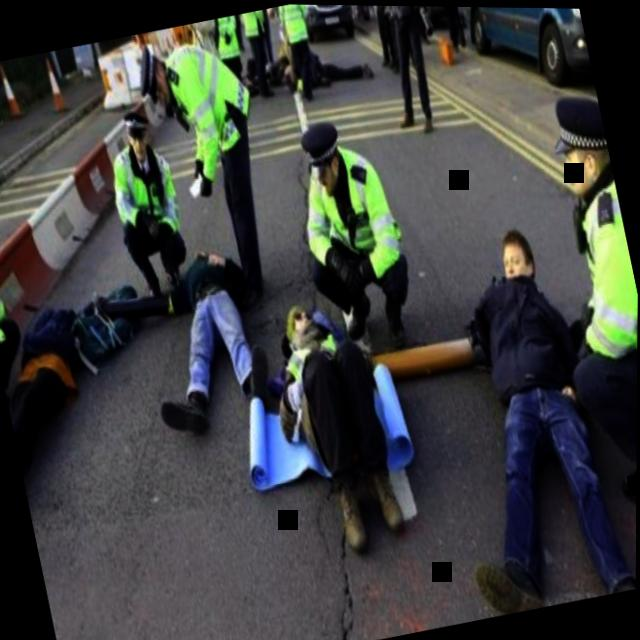Fall-Detected: (235, 269, 435, 576)
